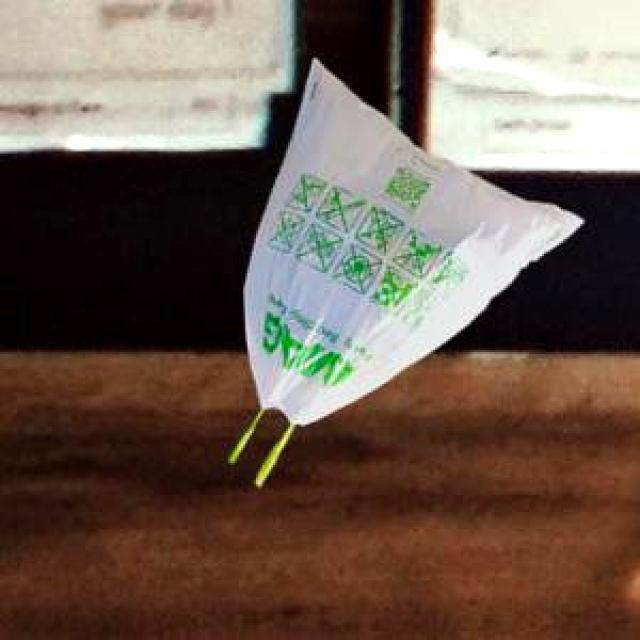Plastic_Bag: (227, 54, 579, 483)
